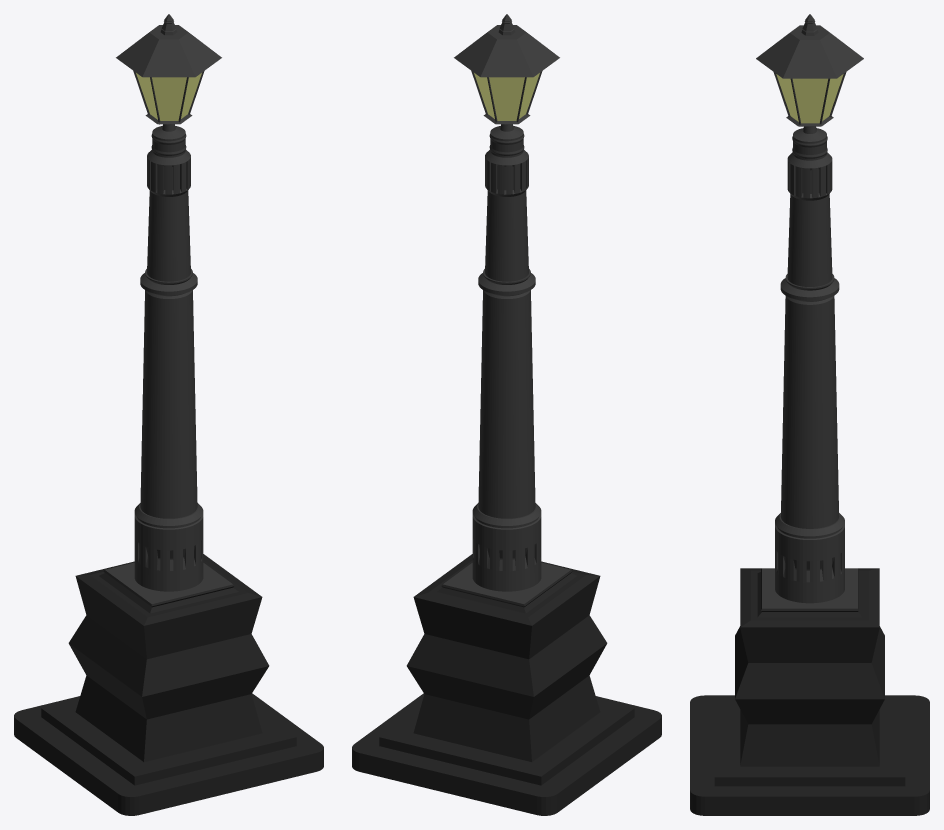
The model's file is Lamp.fbx.
3 renders of one model, left to right at view 1: azimuth 30°, elevation 25°; view 2: azimuth 150°, elevation 25°; view 3: azimuth 270°, elevation 25°, orthographic. The views are drawn at different scales.
Visible parts, largest first — view 1: Cube, Cube.001, Cube.002; view 2: Cube, Cube.001, Cube.002; view 3: Cube, Cube.001, Cube.002.
Boxes of the visible parts, x1,y1,x2,y2 form: Cube: (14, 77, 323, 815); Cube.001: (105, 14, 232, 603); Cube.002: (136, 73, 201, 120); Cube: (352, 77, 661, 815); Cube.001: (443, 14, 570, 603); Cube.002: (474, 73, 539, 120); Cube: (690, 74, 929, 815); Cube.001: (756, 14, 863, 608); Cube.002: (776, 74, 843, 123).
Size of the model in its own units: 337 by 1165 by 337.
